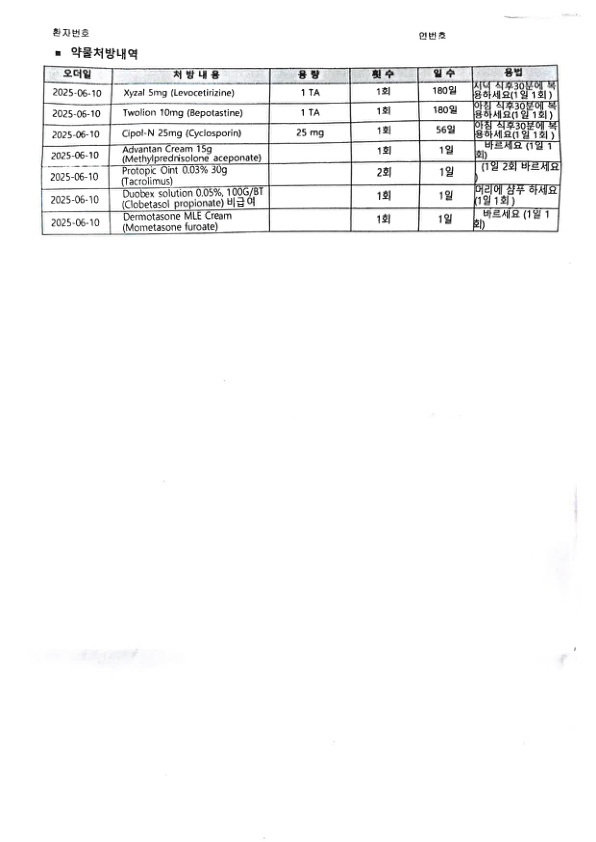row: (44, 184, 556, 209), (44, 141, 557, 164), (44, 210, 556, 233), (42, 165, 556, 186), (42, 121, 557, 141), (44, 101, 558, 121), (43, 82, 556, 101), (45, 67, 556, 82)
